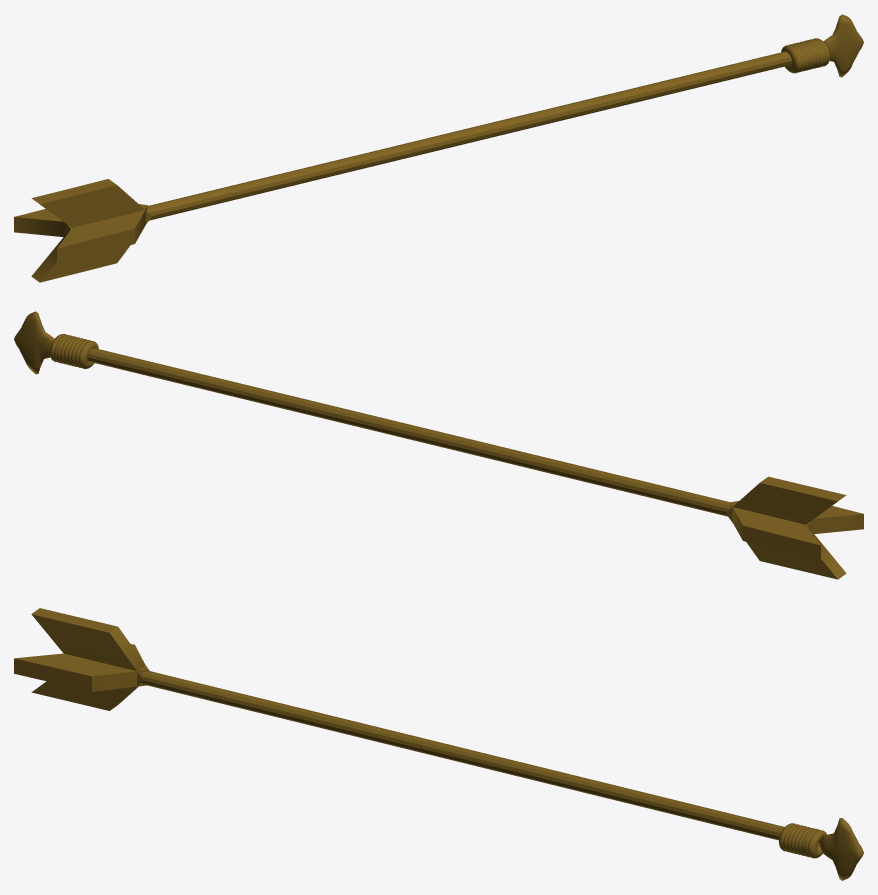
Rendered from goldenarrow.fbx.
The picture shows the model from 3 angles, top to bottom: view 1: azimuth 30°, elevation 25°; view 2: azimuth 150°, elevation 25°; view 3: azimuth 330°, elevation 25°; orthographic projection.
Visible parts, largest first — view 1: polySurface13; view 2: polySurface13; view 3: polySurface13.
Part boxes in pixels (<box>): polySurface13: <box>14,14,863,282</box>; polySurface13: <box>14,311,863,579</box>; polySurface13: <box>14,608,863,880</box>.
Bounding box in the file's own units: 1.59 × 0.1441 × 0.1441.
